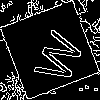W: (25, 25, 86, 87)
